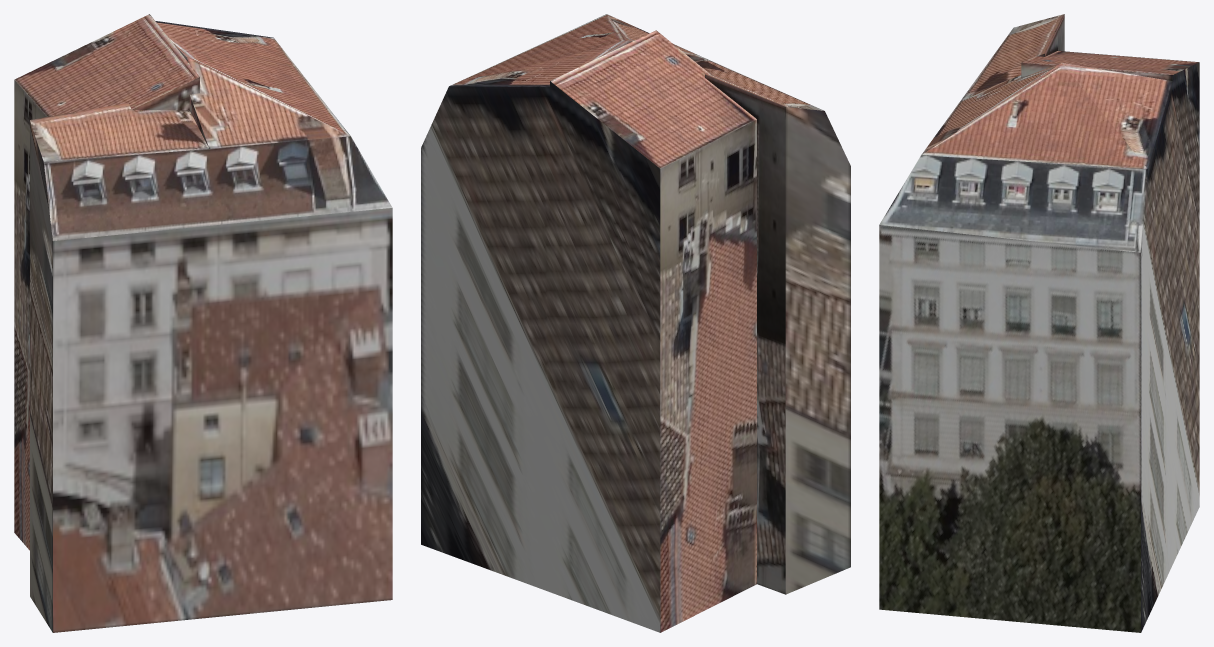
The picture shows the model from 3 angles, left to right: view 1: azimuth 30°, elevation 25°; view 2: azimuth 150°, elevation 25°; view 3: azimuth 270°, elevation 25°; orthographic projection. The views are drawn at different scales.
Parts seen in each view (by area): view 1: Z_UP; view 2: Z_UP; view 3: Z_UP.
Boxes of the visible parts, <box> form: Z_UP: <box>14,14,392,632</box>; Z_UP: <box>421,14,850,632</box>; Z_UP: <box>879,14,1199,632</box>.
Size of the model in its own units: 19.4 by 27.6 by 16.27.
2 materials, 1 textured.
